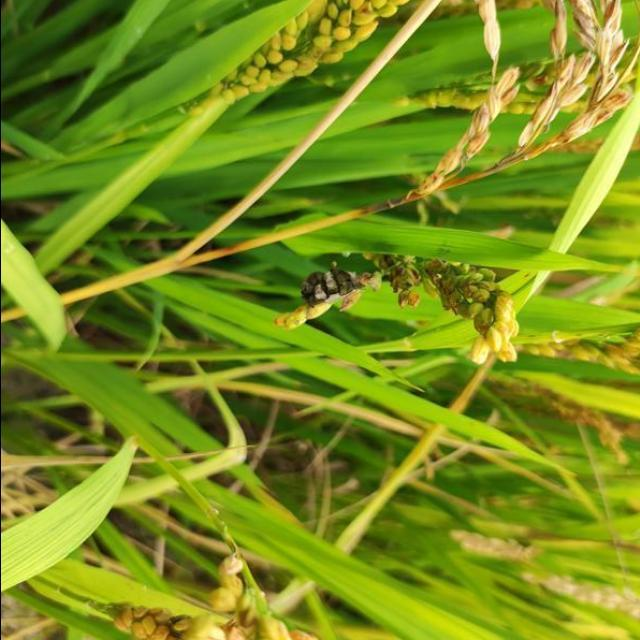Leaf_Scald: (298, 266, 362, 310)
